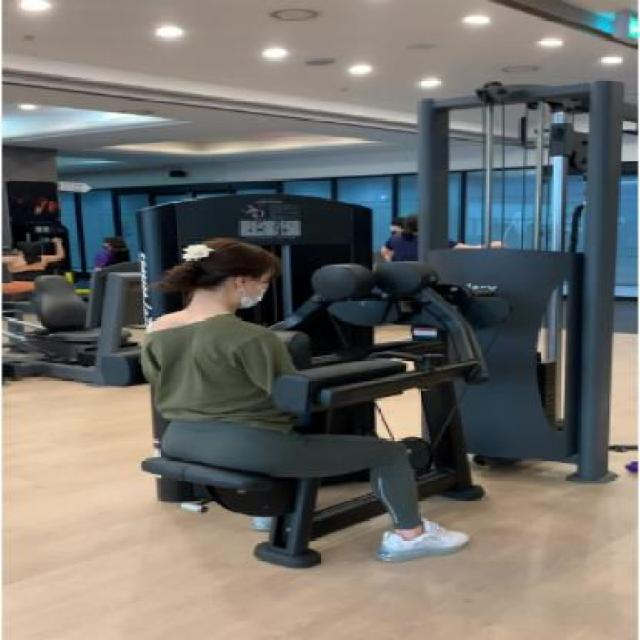lateral raises machine: (138, 260, 616, 569)
